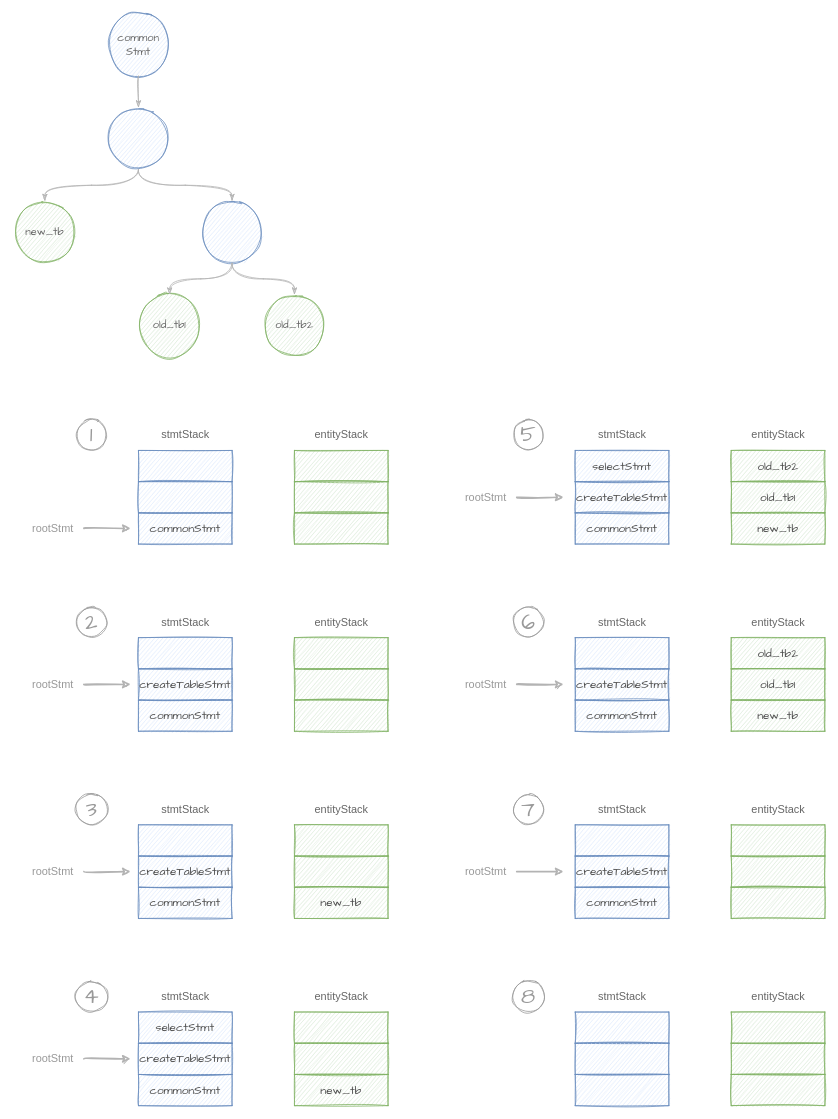
Some shapes in this 838 by 1119 pixel diagram are drawn without their labels. Here are the shapes that lost their labels. From the top down, the box of each, then its label:
(106, 106, 170, 170): createTable Stmt
(200, 200, 263, 263): select stmt
